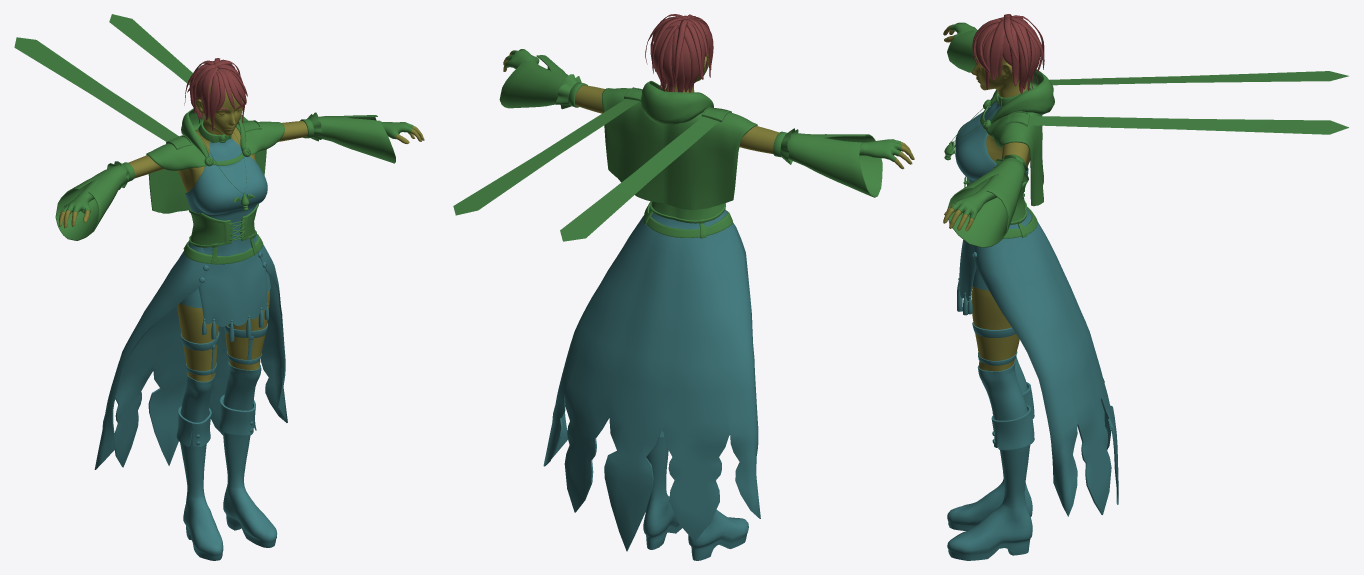
The model's file is Main Character Modeling Low.fbx.
The picture shows the model from 3 angles, left to right: view 1: azimuth 30°, elevation 25°; view 2: azimuth 150°, elevation 25°; view 3: azimuth 270°, elevation 25°; orthographic projection. The views are drawn at different scales.
Parts seen in each view (by area): view 1: Object009; view 2: Object009; view 3: Object009.
Part boxes in pixels (x1,y1,x2,y2): Object009: (14,14,424,560); Object009: (453,14,914,560); Object009: (943,14,1348,560).
Size of the model in its own units: 139 by 172 by 121.
